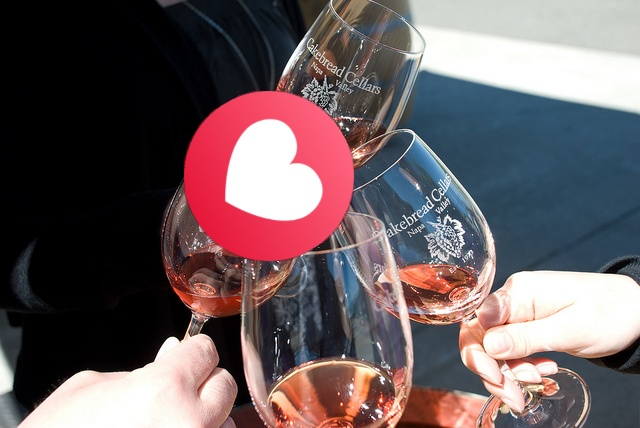love: (184, 91, 354, 261)
